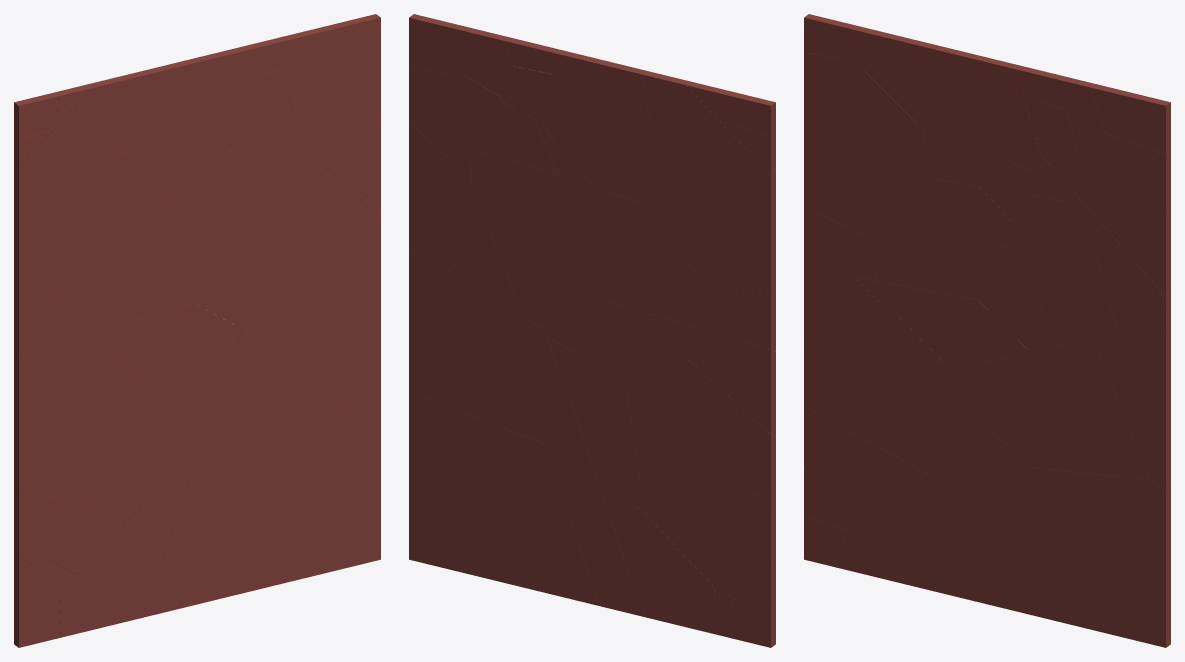
The model's file is wall_05Cx.fbx.
3 views of the same model, side by side, from view 1: azimuth 30°, elevation 25°; view 2: azimuth 150°, elevation 25°; view 3: azimuth 330°, elevation 25° (orthographic).
Visible parts, largest first — view 1: wall05_C_cell.003_cell, wall05_C_cell.002_cell.006, wall05_C_cell.001_cell.005, wall05_C_cell.003_cell.002, wall05_C_cell.002_cell.005, wall05_C_cell.002_cell.002, wall05_C_cell.003_cell.003, wall05_C_cell.004_cell.008, wall05_C_cell.001_cell, wall05_C_cell.001_cell.007, wall05_C_cell.003_cell.001, wall05_C_cell_cell.006 (+26 smaller); view 2: wall05_C_cell.003_cell, wall05_C_cell.002_cell.006, wall05_C_cell.001_cell.005, wall05_C_cell.003_cell.002, wall05_C_cell.002_cell.002, wall05_C_cell.002_cell.005, wall05_C_cell.004_cell.008, wall05_C_cell.001_cell.009, wall05_C_cell.001_cell, wall05_C_cell.003_cell.003, wall05_C_cell.001_cell.007, wall05_C_cell_cell.006 (+26 smaller); view 3: wall05_C_cell.003_cell, wall05_C_cell.002_cell.006, wall05_C_cell.001_cell.005, wall05_C_cell.003_cell.002, wall05_C_cell.002_cell.005, wall05_C_cell.002_cell.002, wall05_C_cell.003_cell.003, wall05_C_cell.004_cell.008, wall05_C_cell.001_cell, wall05_C_cell.003_cell.001, wall05_C_cell.001_cell.007, wall05_C_cell_cell.006 (+25 smaller).
Boxes of the visible parts, box(x1,y1,x2,y2) form: wall05_C_cell.003_cell: box(191, 399, 380, 605); wall05_C_cell.002_cell.006: box(14, 121, 145, 295); wall05_C_cell.001_cell.005: box(14, 356, 159, 501); wall05_C_cell.003_cell.002: box(207, 287, 363, 444); wall05_C_cell.002_cell.005: box(79, 189, 226, 333); wall05_C_cell.002_cell.002: box(137, 53, 250, 204); wall05_C_cell.003_cell.003: box(142, 429, 247, 617); wall05_C_cell.004_cell.008: box(221, 156, 310, 298); wall05_C_cell.001_cell: box(142, 339, 238, 515); wall05_C_cell.001_cell.007: box(77, 504, 177, 622); wall05_C_cell.003_cell.001: box(310, 244, 380, 401); wall05_C_cell_cell.006: box(289, 67, 380, 170); wall05_C_cell.003_cell: box(409, 398, 599, 605); wall05_C_cell.002_cell.006: box(644, 117, 775, 293); wall05_C_cell.001_cell.005: box(625, 353, 775, 501); wall05_C_cell.003_cell.002: box(427, 290, 579, 443); wall05_C_cell.002_cell.002: box(540, 54, 653, 203); wall05_C_cell.002_cell.005: box(570, 188, 708, 327); wall05_C_cell.004_cell.008: box(470, 151, 575, 299); wall05_C_cell.001_cell.009: box(639, 492, 772, 586); wall05_C_cell.001_cell: box(548, 338, 642, 512); wall05_C_cell.003_cell.003: box(543, 430, 644, 616); wall05_C_cell.001_cell.007: box(611, 507, 714, 625); wall05_C_cell_cell.006: box(409, 68, 501, 165); wall05_C_cell.003_cell: box(977, 468, 1170, 647); wall05_C_cell.002_cell.006: box(804, 54, 930, 234); wall05_C_cell.001_cell.005: box(804, 309, 944, 473); wall05_C_cell.003_cell.002: box(992, 341, 1148, 479); wall05_C_cell.002_cell.005: box(864, 178, 1011, 299); wall05_C_cell.002_cell.002: box(922, 45, 1035, 186); wall05_C_cell.003_cell.003: box(927, 433, 1032, 601); wall05_C_cell.004_cell.008: box(1006, 193, 1095, 333); wall05_C_cell.001_cell: box(927, 357, 1023, 504); wall05_C_cell.003_cell.001: box(1095, 332, 1170, 489); wall05_C_cell.001_cell.007: box(862, 477, 962, 589); wall05_C_cell_cell.006: box(1074, 133, 1170, 235).
Size of the model in its own units: 854 by 1222 by 20.22.
